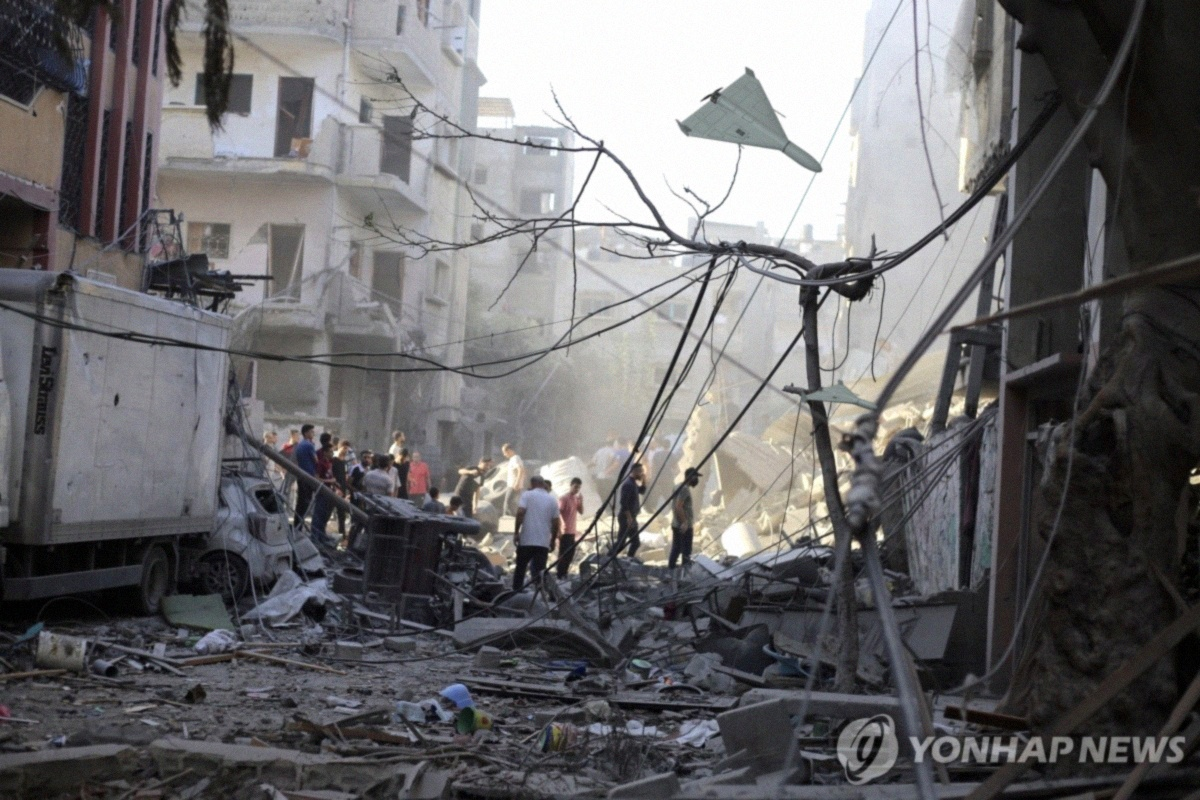shahed: (674, 64, 824, 174), (780, 368, 886, 413)
